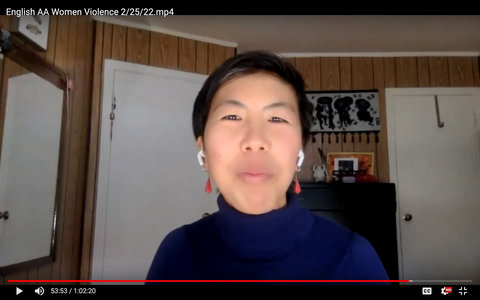earphone: (195, 136, 209, 173), (295, 143, 306, 171)
